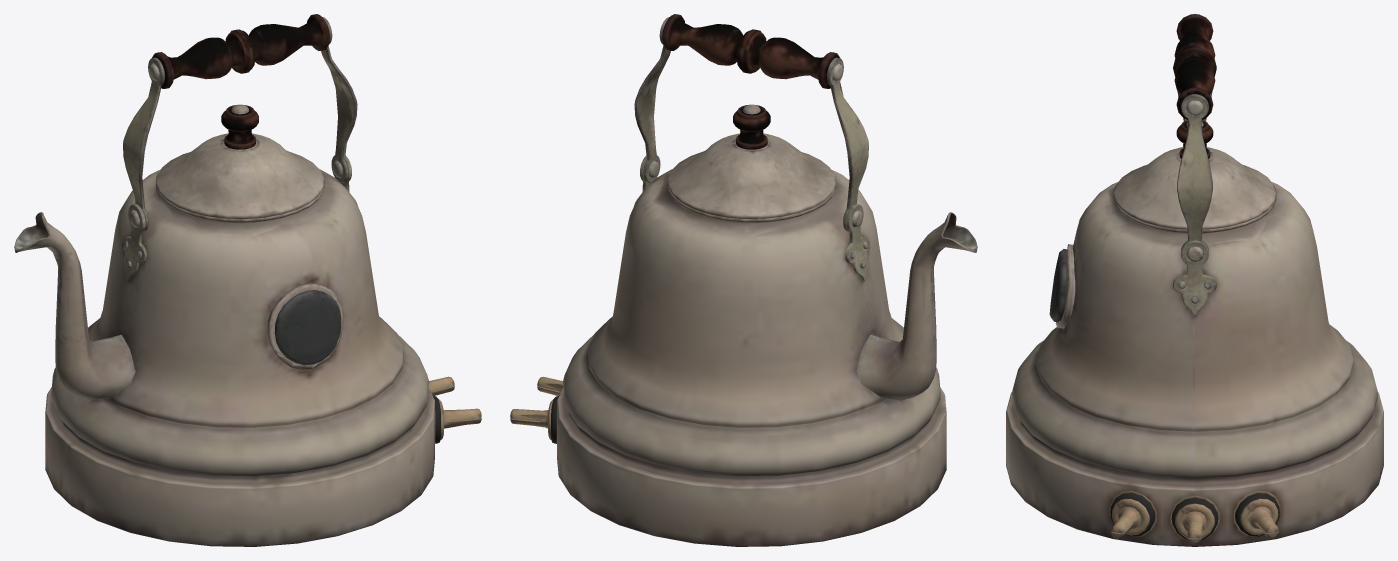
The model's file is diner-kettle.glb.
The picture shows the model from 3 angles, left to right: view 1: azimuth 30°, elevation 25°; view 2: azimuth 150°, elevation 25°; view 3: azimuth 270°, elevation 25°; orthographic projection. The views are drawn at different scales.
Visible parts, largest first — view 1: Detailed view, Room view; view 2: Detailed view, Room view; view 3: Detailed view, Room view.
Part boxes in pixels (x1,y1,x2,y2): Detailed view: (14,14,481,546); Room view: (14,17,480,487); Detailed view: (510,14,977,546); Room view: (510,14,976,487); Detailed view: (1006,14,1383,546); Room view: (1012,15,1377,539).
Size of the model in its own units: 0.3209 by 0.3048 by 0.2486.
Materials: 2 (2 with a texture image).
